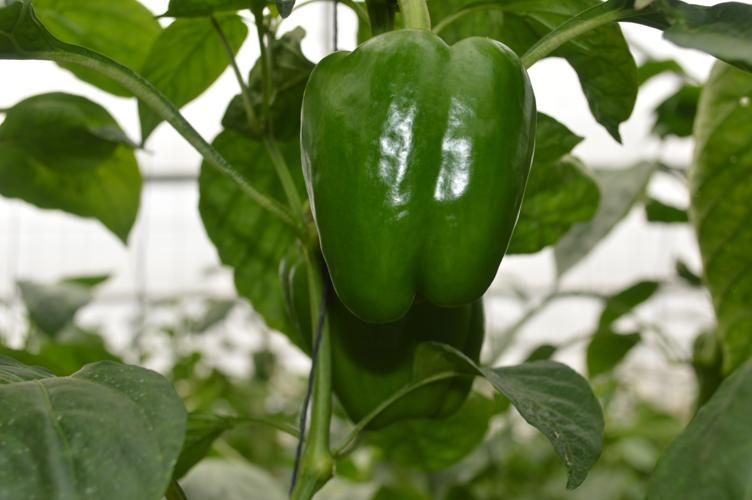BellPepper: (295, 33, 532, 304), (278, 257, 486, 422)
